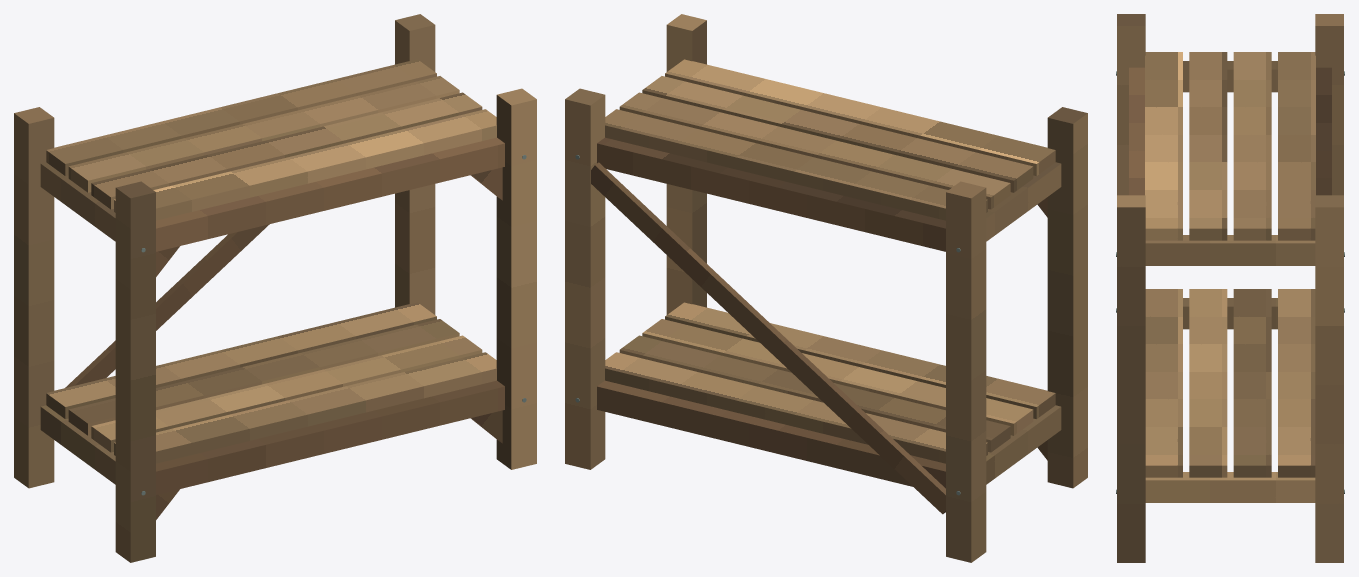
Rendered from wood-2.glb.
The picture shows the model from 3 angles, left to right: view 1: azimuth 30°, elevation 25°; view 2: azimuth 150°, elevation 25°; view 3: azimuth 270°, elevation 25°; orthographic projection. The views are drawn at different scales.
Visible parts, largest first — view 1: wood-2/post-0-0, wood-2/post-1-0, wood-2/post-0-1, wood-2/L1-apron--1, wood-2/L2-apron--1, wood-2/L2-board-0, wood-2/L1-board-0, wood-2/L2-board-2, wood-2/L2-board-3, wood-2/L2-board-1, wood-2/L1-board-2, wood-2/L1-board-1 (+5 smaller); view 2: wood-2/post-0-1, wood-2/post-1-1, wood-2/post-0-0, wood-2/L2-apron-1, wood-2/L2-board-3, wood-2/rear-wood-brace, wood-2/L1-apron-1, wood-2/L1-board-3, wood-2/L2-board-1, wood-2/L2-board-0, wood-2/L2-board-2, wood-2/L1-board-1 (+5 smaller); view 3: wood-2/post-1-0, wood-2/post-1-1, wood-2/L1-board-1, wood-2/L1-board-2, wood-2/L2-board-1, wood-2/L2-board-2, wood-2/L1-board-0, wood-2/L1-board-3, wood-2/L2-board-0, wood-2/L2-board-3, wood-2/L1-endbeam-1, wood-2/L2-endbeam-1 (+6 smaller).
Part boxes in pixels (<box>): wood-2/post-0-0: <box>115,181,155,562</box>; wood-2/post-1-0: <box>496,88,536,469</box>; wood-2/post-0-1: <box>14,107,54,488</box>; wood-2/L1-apron--1: <box>156,380,504,494</box>; wood-2/L2-apron--1: <box>156,137,504,251</box>; wood-2/L2-board-0: <box>114,109,496,220</box>; wood-2/L1-board-0: <box>114,352,496,463</box>; wood-2/L2-board-2: <box>68,76,459,192</box>; wood-2/L2-board-3: <box>46,59,436,175</box>; wood-2/L2-board-1: <box>91,92,482,209</box>; wood-2/L1-board-2: <box>68,319,459,435</box>; wood-2/L1-board-1: <box>91,335,482,452</box>; wood-2/post-0-1: <box>946,181,986,562</box>; wood-2/post-1-1: <box>565,88,605,469</box>; wood-2/post-0-0: <box>1047,107,1087,488</box>; wood-2/L2-apron-1: <box>597,137,945,251</box>; wood-2/L2-board-3: <box>605,109,987,220</box>; wood-2/rear-wood-brace: <box>591,162,945,514</box>; wood-2/L1-apron-1: <box>597,380,945,488</box>; wood-2/L1-board-3: <box>605,352,987,463</box>; wood-2/L2-board-1: <box>642,76,1033,192</box>; wood-2/L2-board-0: <box>665,59,1055,175</box>; wood-2/L2-board-2: <box>619,92,1010,209</box>; wood-2/L1-board-1: <box>642,319,1033,435</box>; wood-2/post-1-0: <box>1117,195,1145,562</box>; wood-2/post-1-1: <box>1315,195,1343,562</box>; wood-2/L1-board-1: <box>1189,289,1227,477</box>; wood-2/L1-board-2: <box>1233,289,1271,477</box>; wood-2/L2-board-1: <box>1189,52,1227,240</box>; wood-2/L2-board-2: <box>1233,52,1271,240</box>; wood-2/L1-board-0: <box>1145,289,1182,477</box>; wood-2/L1-board-3: <box>1278,289,1315,477</box>; wood-2/L2-board-0: <box>1145,52,1182,240</box>; wood-2/L2-board-3: <box>1278,52,1315,240</box>; wood-2/L1-endbeam-1: <box>1145,472,1315,502</box>; wood-2/L2-endbeam-1: <box>1145,235,1315,265</box>.
Size of the model in its own units: 0.875 by 0.75 by 0.4375.
3 materials, 3 textured.
